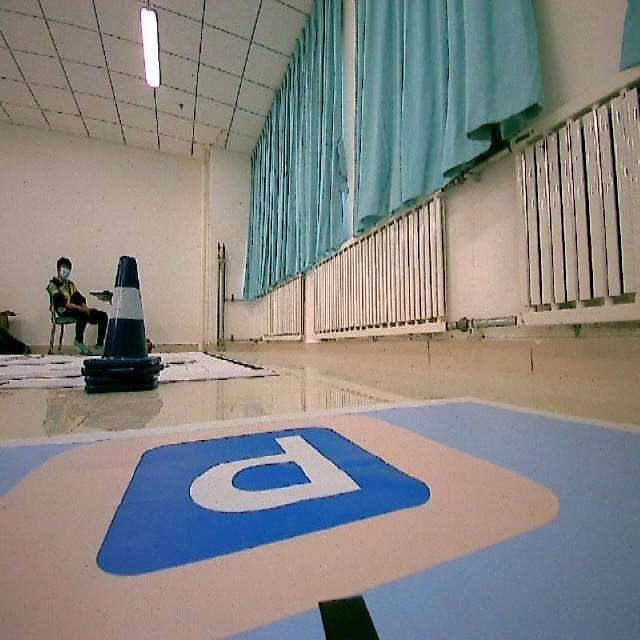obstacle: (90, 246, 173, 404)
